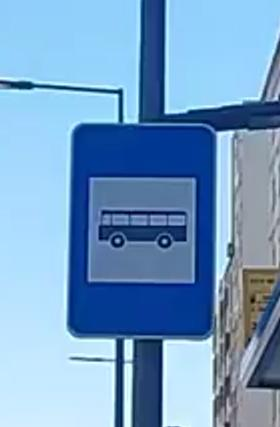paragem de autocarro: (65, 118, 217, 344)
